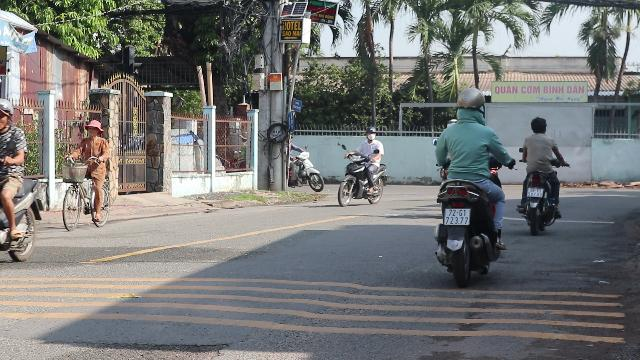helmet: (454, 86, 486, 122)
licenseplate: (444, 208, 468, 224), (528, 188, 542, 196)
motorcyclist: (430, 85, 510, 281), (516, 115, 564, 233)
nohelmet: (528, 116, 548, 134)
